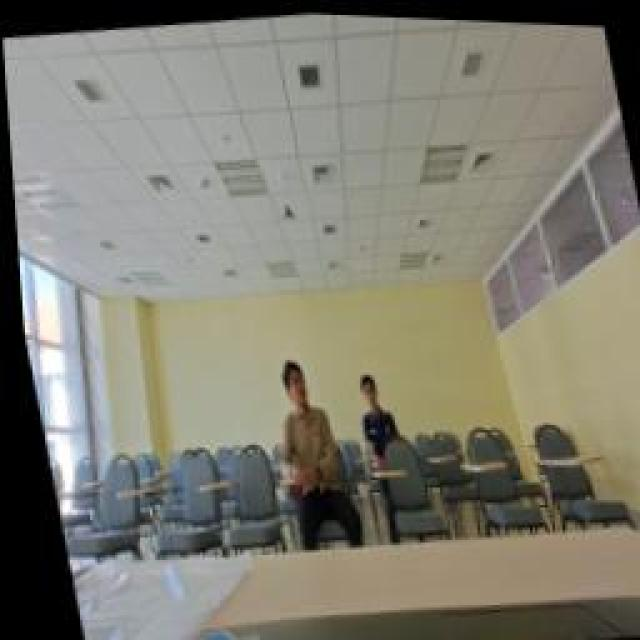study: (250, 348, 355, 550), (340, 362, 405, 472)
